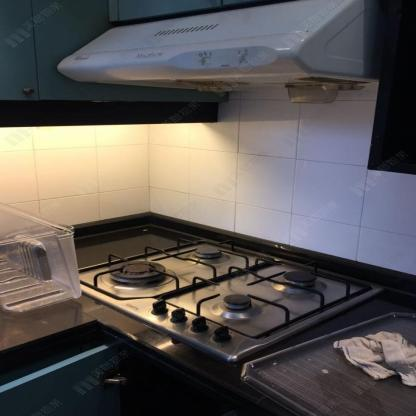Exhaust Hood: (53, 0, 376, 105)
Stove: (68, 235, 394, 361)
